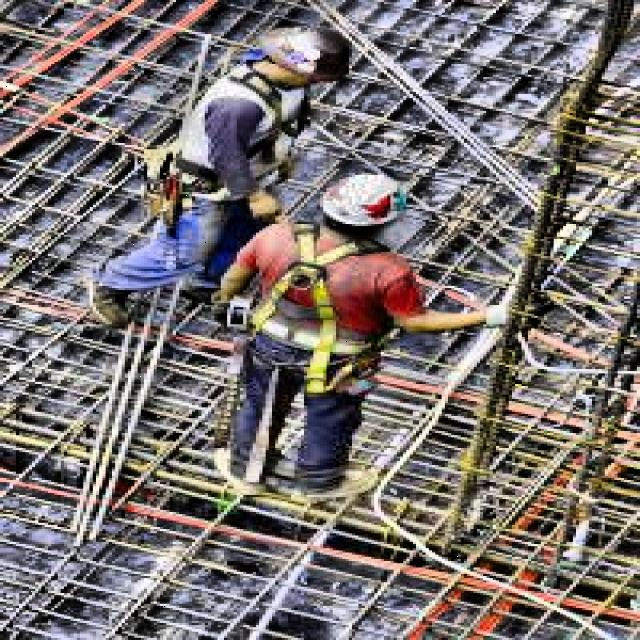helmet: (246, 22, 362, 90), (310, 173, 406, 237)
